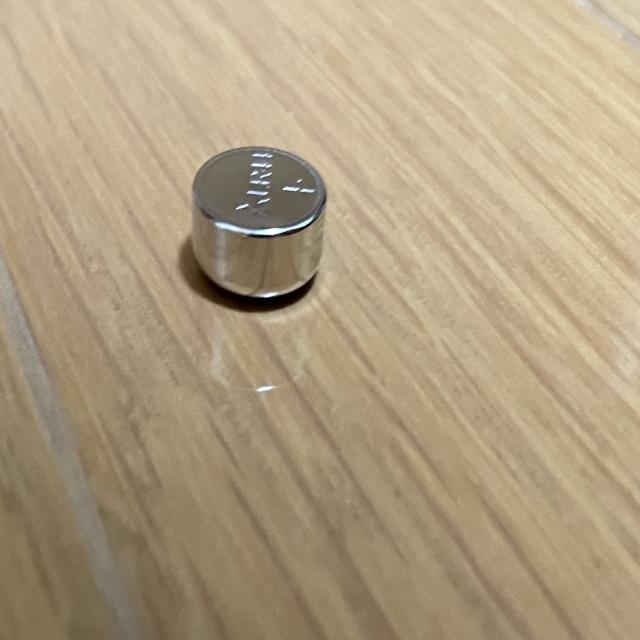COIN: (190, 144, 328, 306)
